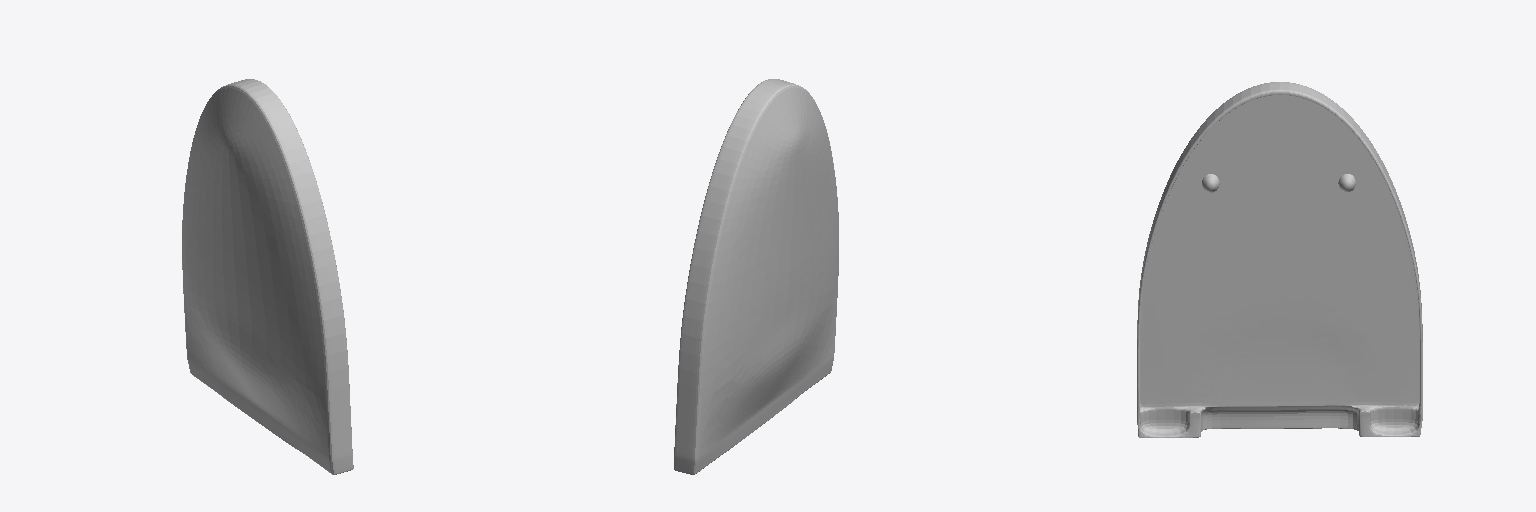
The model's file is pot_lid.obj.
The picture shows the model from 3 angles: view 1: azimuth 30°, elevation 25°; view 2: azimuth 150°, elevation 25°; view 3: azimuth 270°, elevation 25°; orthographic projection.
Visible parts, largest first — view 1: Lid; view 2: Lid; view 3: Lid.
Part boxes in pixels (bbox=[...]): Lid: bbox=[182, 79, 353, 474]; Lid: bbox=[674, 79, 838, 474]; Lid: bbox=[1137, 82, 1422, 437].
Size of the model in its own units: 19.39 by 115 by 87.63.